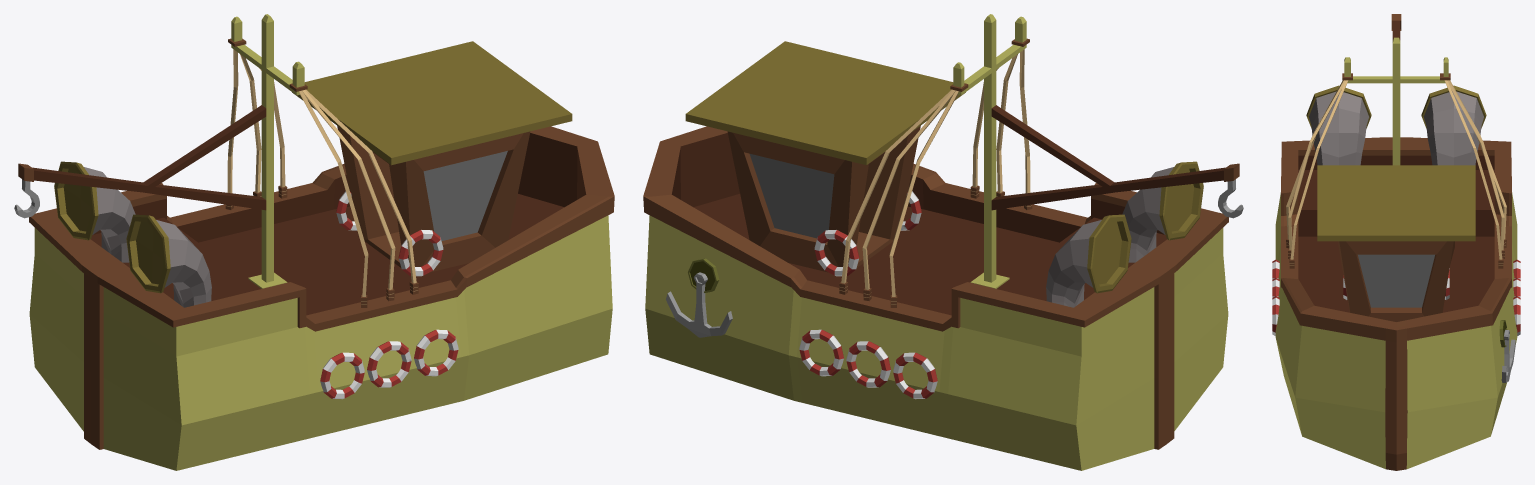
The model's file is YellowBoat.fbx.
3 renders of one model, left to right at view 1: azimuth 30°, elevation 25°; view 2: azimuth 150°, elevation 25°; view 3: azimuth 270°, elevation 25°, orthographic. The views are drawn at different scales.
Parts seen in each view (by area): view 1: YellowBoat; view 2: YellowBoat; view 3: YellowBoat.
Part boxes in pixels (x1=…): YellowBoat: x1=14, y1=14, x2=614, y2=470; YellowBoat: x1=643, y1=14, x2=1243, y2=470; YellowBoat: x1=1272, y1=14, x2=1520, y2=470.
Size of the model in its own units: 1234 by 804 by 573.
